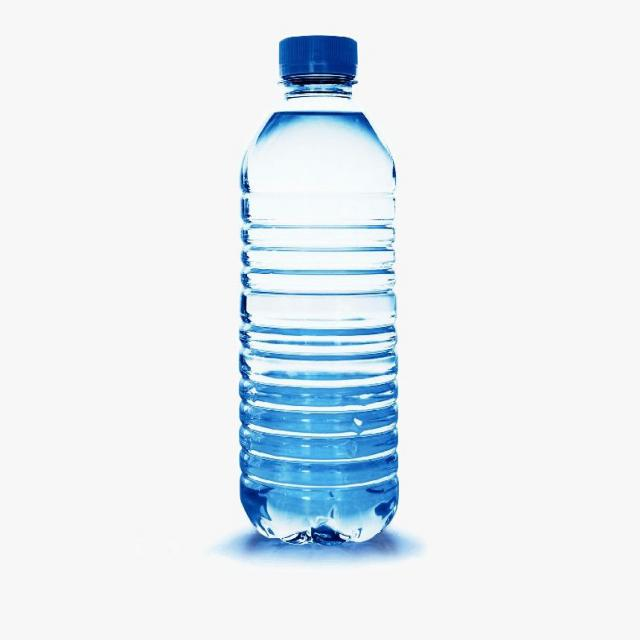bottle: (216, 13, 420, 601)
